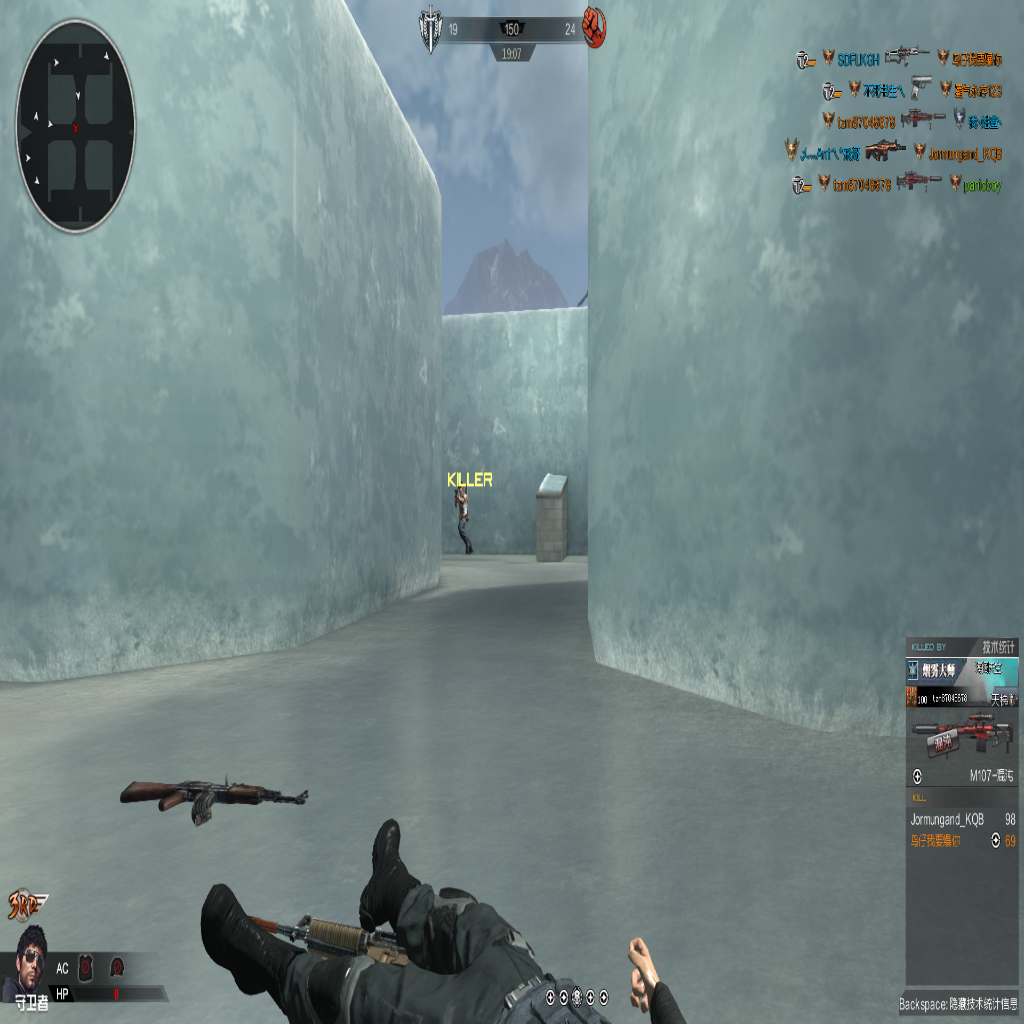tt: (453, 480, 472, 556)
